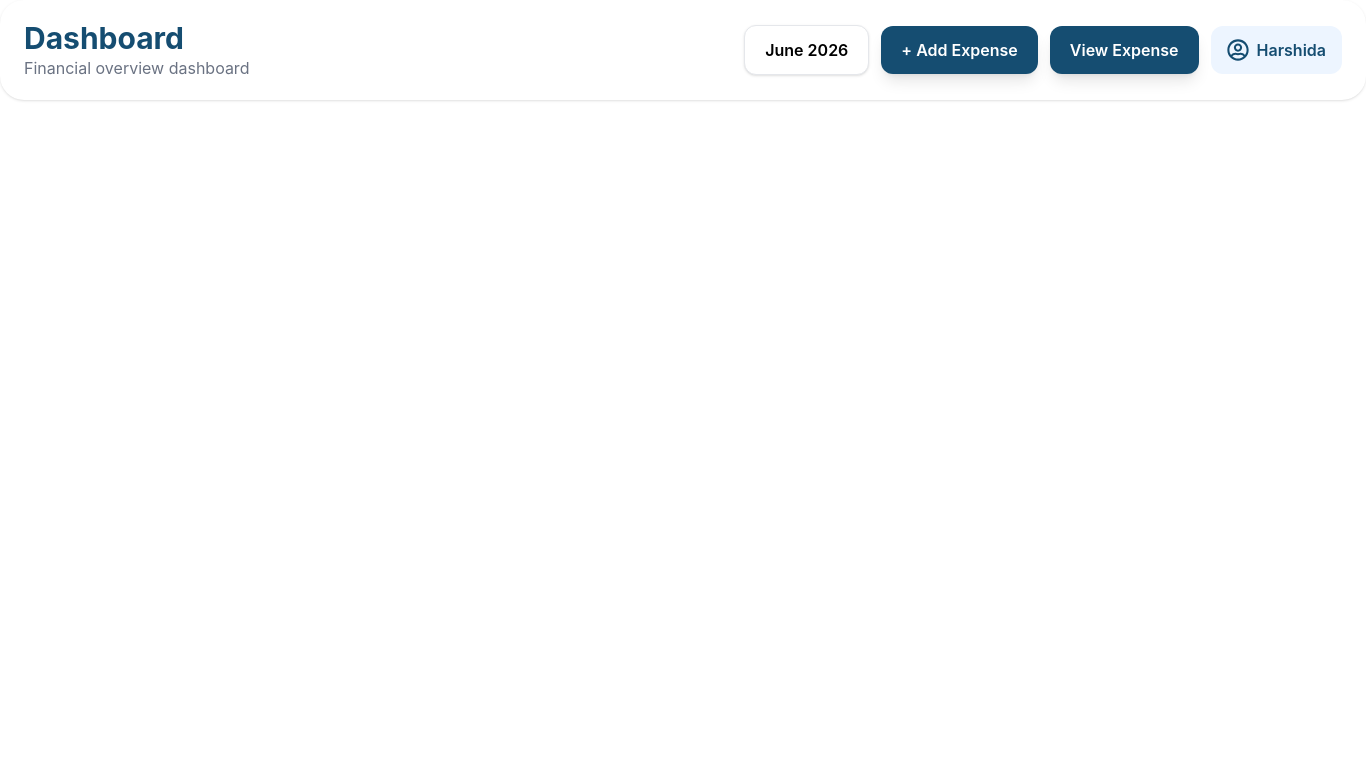
it: Navbar › opens logout modal when logout is clicked
Click the text "Harshida". click: (1291, 50)
box: [1257, 38, 1326, 62]
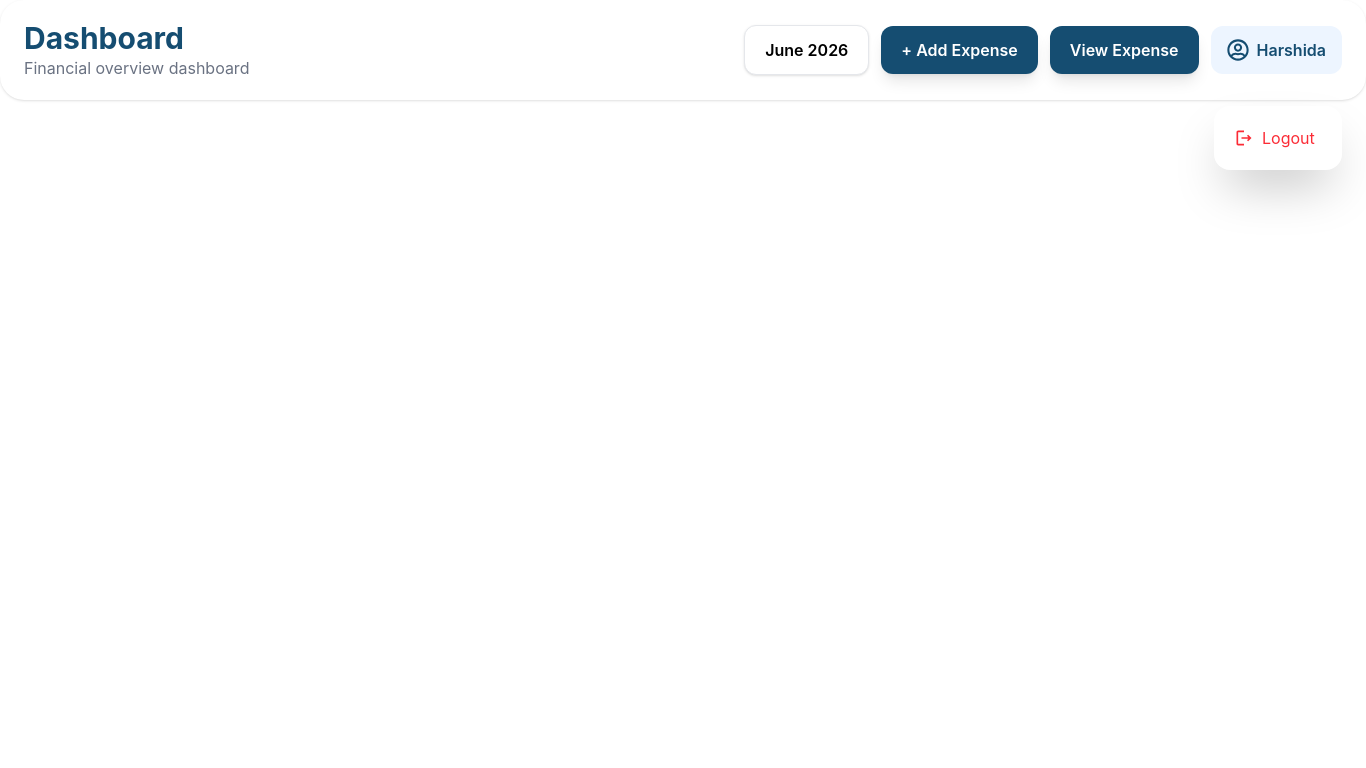
Click the button "Logout". click: (1278, 138)
box: [1222, 114, 1334, 162]
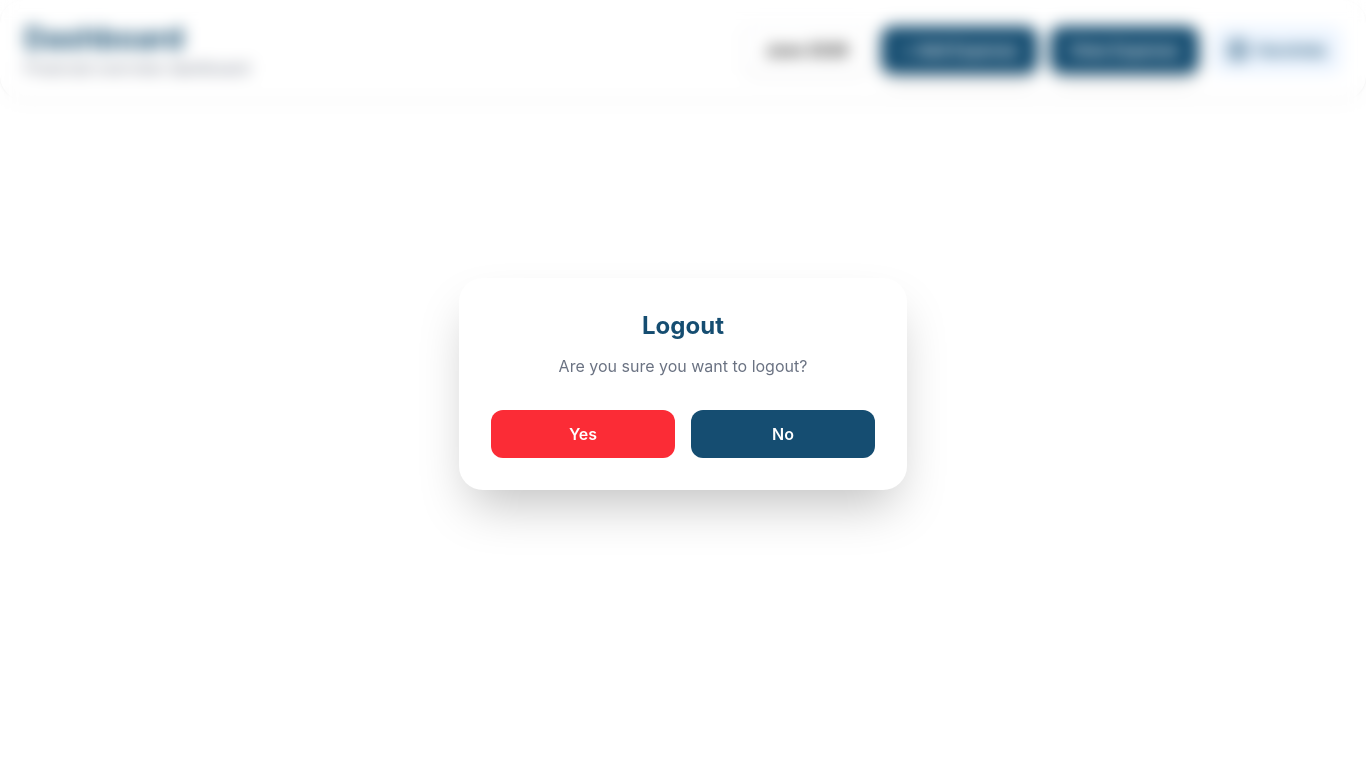
expect the text "Are you sure you want to logout?" is shown: met, box [559, 356, 807, 376]
